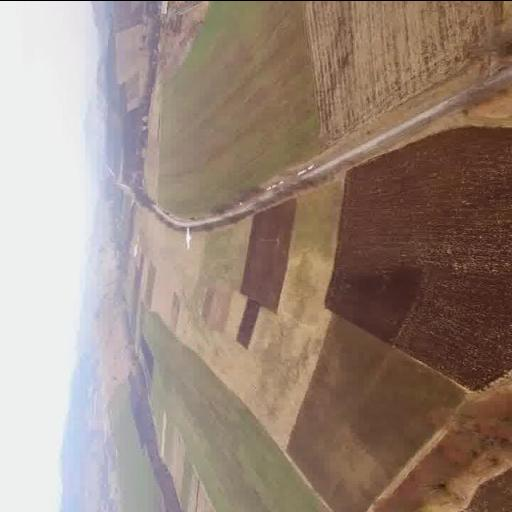uav: (171, 227, 208, 249)
